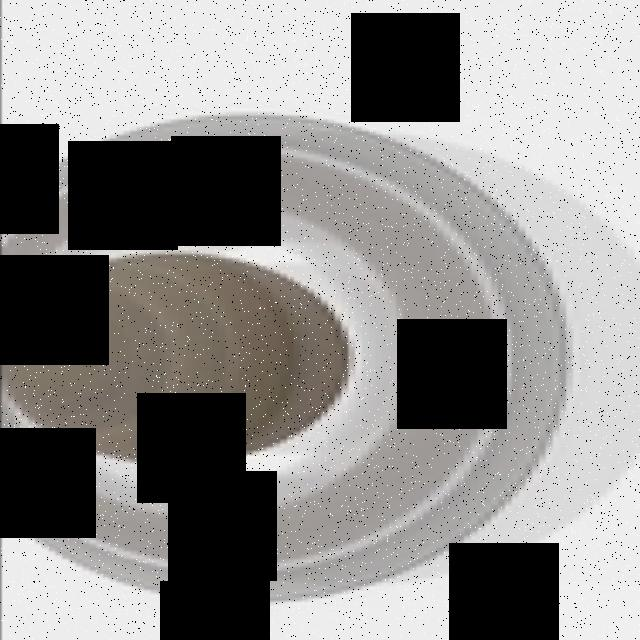Saturn: (0, 108, 565, 606)
